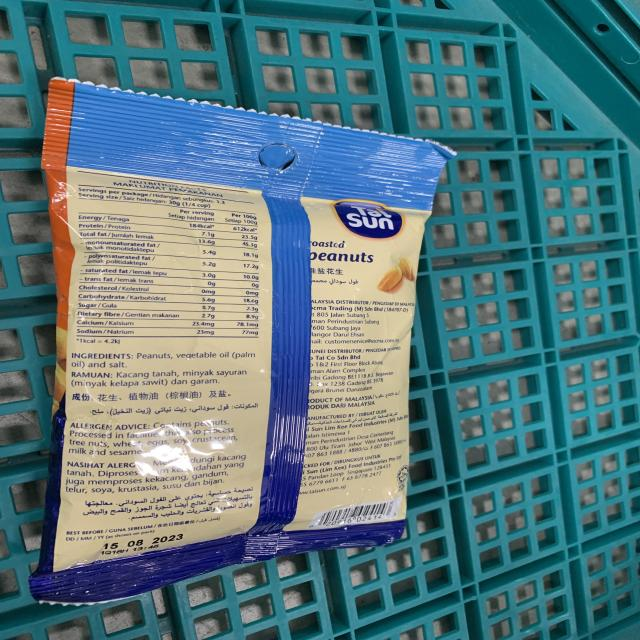object_name: (51, 90, 413, 566)
